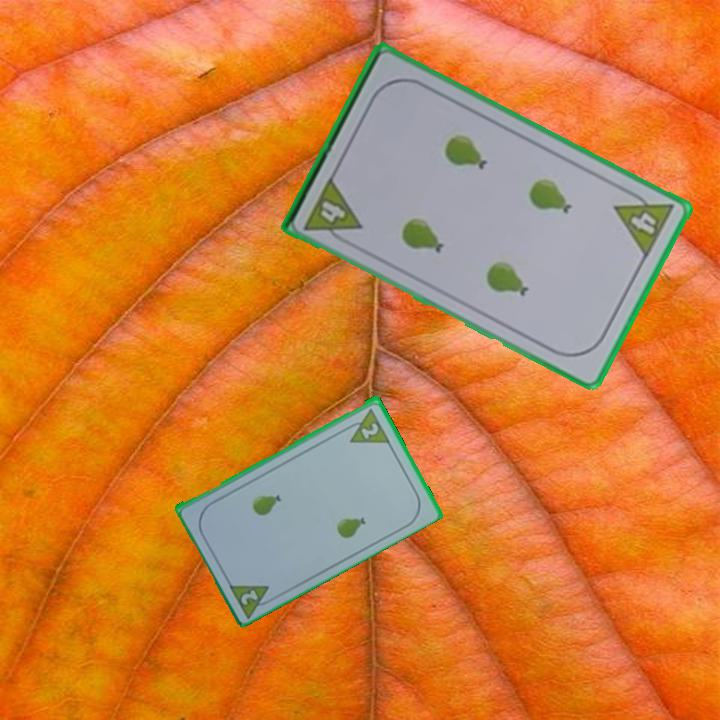2p: (340, 404, 392, 446), (237, 585, 261, 608)
4p: (611, 183, 677, 261), (301, 173, 365, 249)
